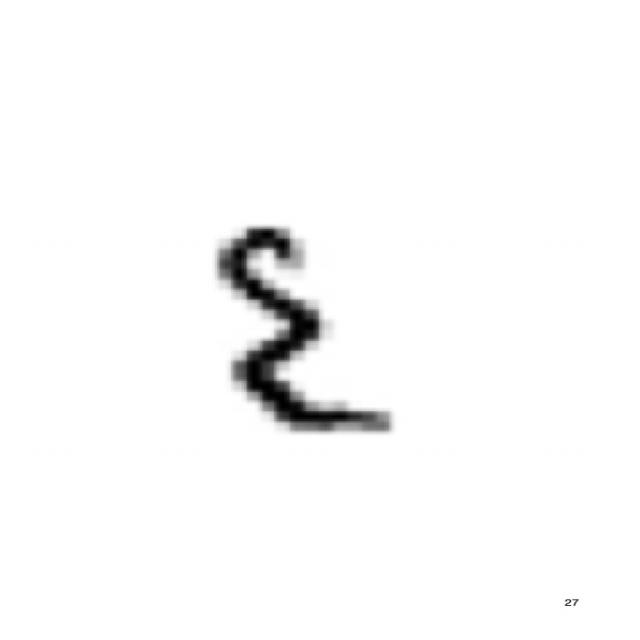4 -four-: (204, 209, 406, 446)
